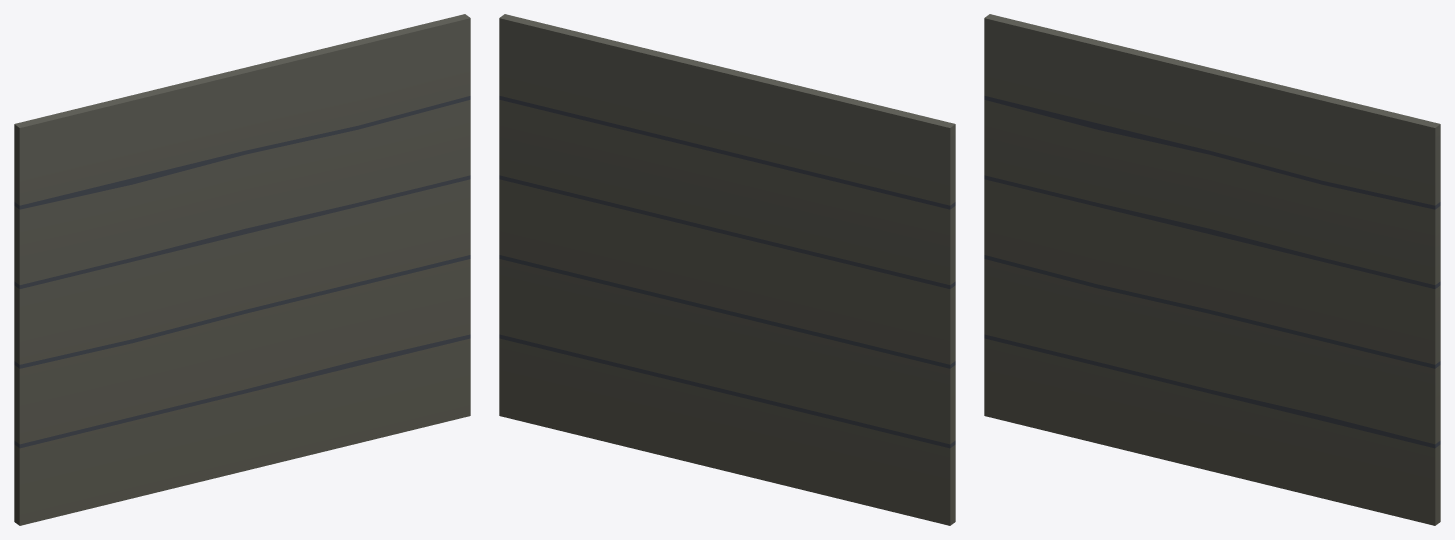
Rendered from OldHouse_09_Door02.fbx.
The picture shows the model from 3 angles, left to right: view 1: azimuth 30°, elevation 25°; view 2: azimuth 150°, elevation 25°; view 3: azimuth 330°, elevation 25°; orthographic projection.
Parts seen in each view (by area): view 1: OldHouse_09_Door02; view 2: OldHouse_09_Door02; view 3: OldHouse_09_Door02.
Boxes of the visible parts, bbox=[...] form: OldHouse_09_Door02: bbox=[14, 14, 470, 525]; OldHouse_09_Door02: bbox=[499, 14, 955, 525]; OldHouse_09_Door02: bbox=[984, 14, 1440, 525].
Bounding box in the file's own units: 2.83 × 2.39 × 0.061.
